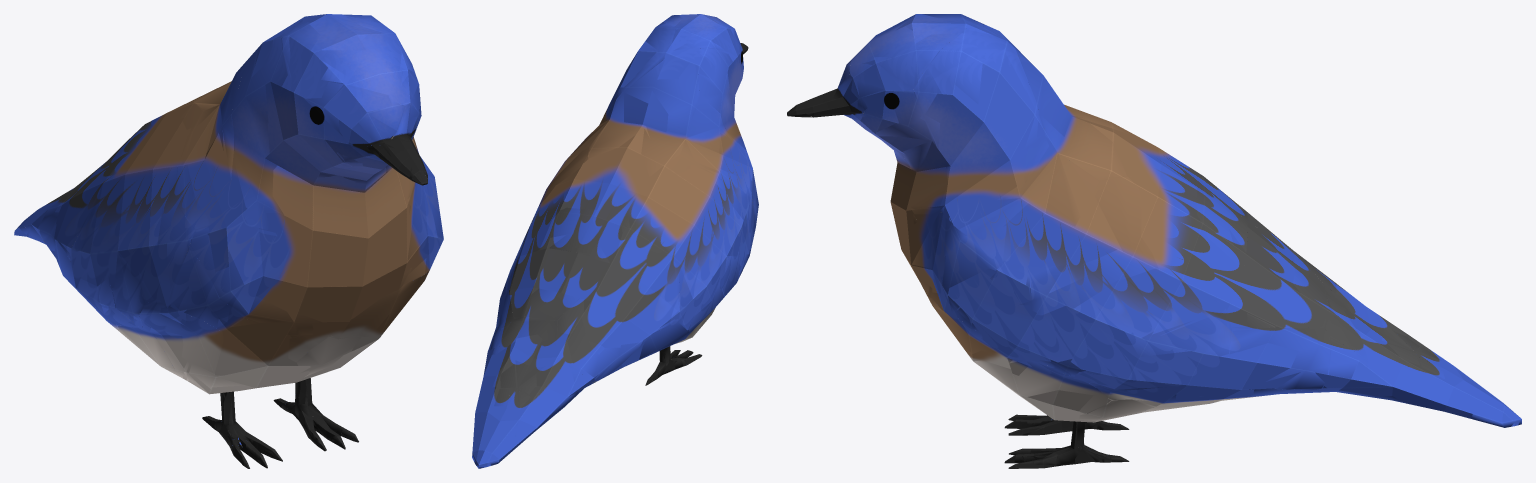
Rendered from bluebird.glb.
The picture shows the model from 3 angles, left to right: view 1: azimuth 30°, elevation 25°; view 2: azimuth 150°, elevation 25°; view 3: azimuth 270°, elevation 25°; orthographic projection. The views are drawn at different scales.
Visible parts, largest first — view 1: origin, WesternBluebird_Mesh_cell.045, WesternBluebird_Mesh_cell.023, WesternBluebird_Mesh_cell.004, WesternBluebird_Mesh_cell.039, WesternBluebird_Mesh_cell.090, WesternBluebird_Mesh_cell.044, WesternBluebird_Mesh_cell.068, WesternBluebird_Mesh_cell.041, WesternBluebird_Mesh_cell.025, WesternBluebird_Mesh_cell.031, WesternBluebird_Mesh_cell.018 (+10 smaller); view 2: origin, WesternBluebird_Mesh_cell.029, WesternBluebird_Mesh_cell.053, WesternBluebird_Mesh_cell.060, WesternBluebird_Mesh_cell.034, WesternBluebird_Mesh_cell.044, WesternBluebird_Mesh_cell.045, WesternBluebird_Mesh_cell.017, WesternBluebird_Mesh_cell.076, WesternBluebird_Mesh_cell.069, WesternBluebird_Mesh_cell.018, WesternBluebird_Mesh_cell.014 (+7 smaller); view 3: origin, WesternBluebird_Mesh_cell.011, WesternBluebird_Mesh_cell.069, WesternBluebird_Mesh_cell.035, WesternBluebird_Mesh_cell.029, WesternBluebird_Mesh_cell.023, WesternBluebird_Mesh_cell.037, WesternBluebird_Mesh_cell.074, WesternBluebird_Mesh_cell.031, WesternBluebird_Mesh_cell.085, WesternBluebird_Mesh_cell.056, WesternBluebird_Mesh_cell.032 (+6 smaller).
Boxes of the visible parts, box(x1,y1,x2,y2) form: origin: box(14, 14, 443, 468); WesternBluebird_Mesh_cell.045: box(231, 30, 288, 229); WesternBluebird_Mesh_cell.023: box(282, 16, 414, 105); WesternBluebird_Mesh_cell.004: box(191, 226, 321, 334); WesternBluebird_Mesh_cell.039: box(140, 299, 329, 375); WesternBluebird_Mesh_cell.090: box(169, 246, 299, 337); WesternBluebird_Mesh_cell.044: box(175, 74, 241, 229); WesternBluebird_Mesh_cell.068: box(303, 82, 403, 147); WesternBluebird_Mesh_cell.041: box(138, 201, 194, 301); WesternBluebird_Mesh_cell.025: box(330, 272, 427, 338); WesternBluebird_Mesh_cell.031: box(398, 169, 443, 289); WesternBluebird_Mesh_cell.018: box(71, 194, 139, 327); origin: box(472, 14, 756, 468); WesternBluebird_Mesh_cell.029: box(588, 60, 699, 176); WesternBluebird_Mesh_cell.053: box(557, 291, 643, 381); WesternBluebird_Mesh_cell.060: box(510, 249, 591, 320); WesternBluebird_Mesh_cell.034: box(535, 207, 625, 254); WesternBluebird_Mesh_cell.044: box(681, 97, 749, 190); WesternBluebird_Mesh_cell.045: box(691, 48, 746, 149); WesternBluebird_Mesh_cell.017: box(492, 317, 557, 388); WesternBluebird_Mesh_cell.076: box(589, 218, 679, 332); WesternBluebird_Mesh_cell.069: box(612, 22, 692, 103); WesternBluebird_Mesh_cell.018: box(678, 261, 724, 332); WesternBluebird_Mesh_cell.014: box(639, 322, 690, 359); origin: box(787, 14, 1521, 468); WesternBluebird_Mesh_cell.011: box(940, 137, 1099, 275); WesternBluebird_Mesh_cell.069: box(914, 26, 1043, 182); WesternBluebird_Mesh_cell.035: box(1078, 176, 1158, 284); WesternBluebird_Mesh_cell.029: box(1002, 34, 1132, 180); WesternBluebird_Mesh_cell.023: box(850, 14, 983, 90); WesternBluebird_Mesh_cell.037: box(1229, 328, 1330, 390); WesternBluebird_Mesh_cell.074: box(1090, 309, 1232, 405); WesternBluebird_Mesh_cell.031: box(912, 211, 1000, 313); WesternBluebird_Mesh_cell.085: box(875, 89, 947, 214); WesternBluebird_Mesh_cell.056: box(973, 360, 1110, 413); WesternBluebird_Mesh_cell.032: box(1030, 265, 1109, 382).
Bounding box in the file's own units: 0.6694 × 1.06 × 1.67.
Materials: 1 (1 with a texture image).
